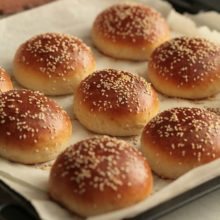hamburger_buns: (78, 66, 162, 135), (12, 27, 95, 91), (90, 5, 164, 48)
